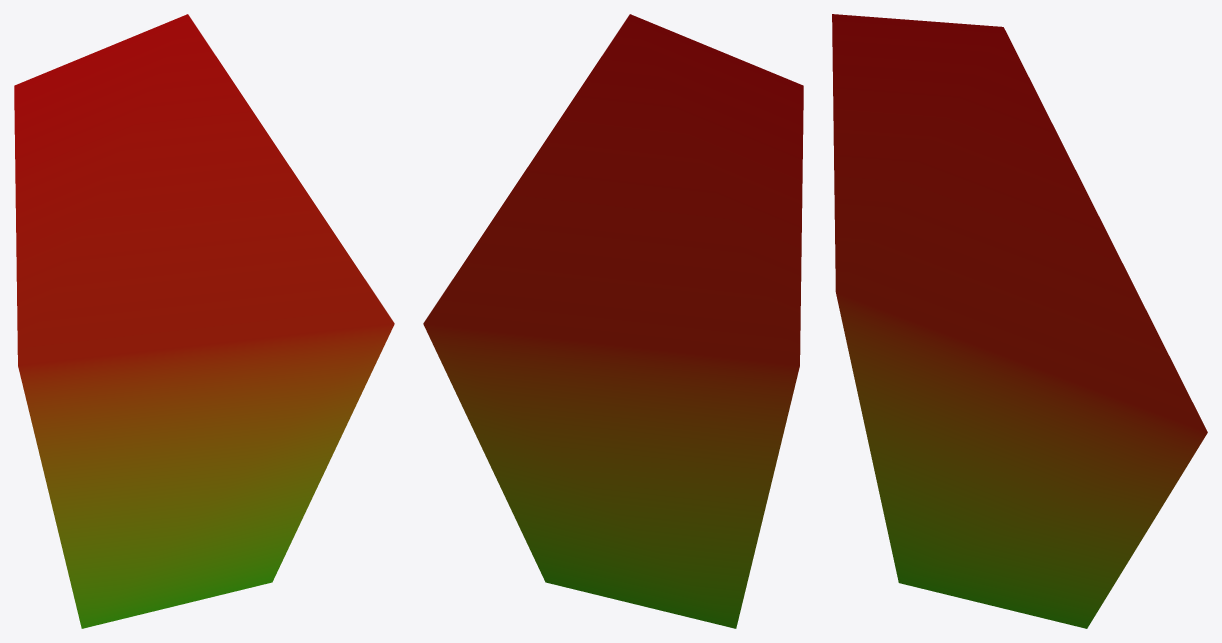
Rendered from Dragon Tree_LOD3_Var2_siumT.fbx.
3 renders of one model, left to right at view 1: azimuth 30°, elevation 25°; view 2: azimuth 150°, elevation 25°; view 3: azimuth 330°, elevation 25°, orthographic.
Parts seen in each view (by area): view 1: _07df_Var2_LOD3; view 2: _07df_Var2_LOD3; view 3: _07df_Var2_LOD3.
Boxes of the visible parts, box(x1,y1,x2,y2) form: _07df_Var2_LOD3: box(14, 14, 394, 628); _07df_Var2_LOD3: box(423, 14, 803, 628); _07df_Var2_LOD3: box(832, 14, 1207, 628).
Size of the model in its own units: 76.02 by 112 by 1.38e-05.
